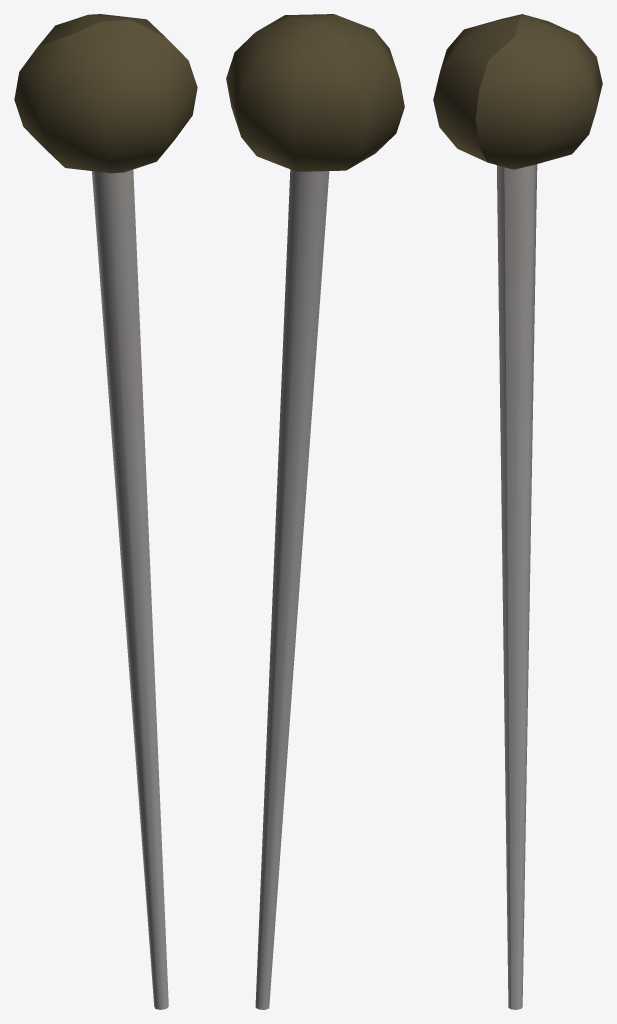
The model's file is SM_Farm_Pin_04.fbx.
3 renders of one model, left to right at view 1: azimuth 30°, elevation 25°; view 2: azimuth 150°, elevation 25°; view 3: azimuth 270°, elevation 25°, orthographic. The views are drawn at different scales.
Visible parts, largest first — view 1: SM_Farm_Pin_04_LOD0; view 2: SM_Farm_Pin_04_LOD0; view 3: SM_Farm_Pin_04_LOD0.
Part boxes in pixels (x1,y1,x2,y2): SM_Farm_Pin_04_LOD0: (14, 14, 197, 1009); SM_Farm_Pin_04_LOD0: (226, 14, 404, 1009); SM_Farm_Pin_04_LOD0: (433, 14, 602, 1009).
Bounding box in the file's own units: 2.3 × 14.41 × 2.31.
